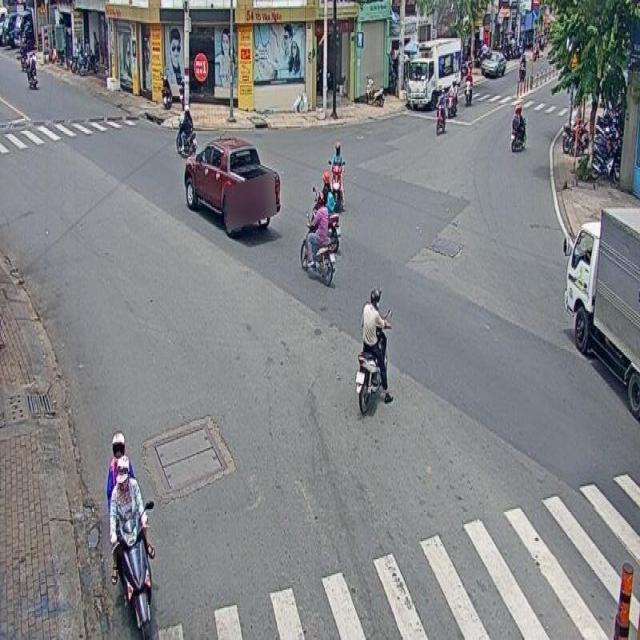car: (182, 137, 279, 239)
motorcycle: (109, 433, 154, 631), (358, 282, 388, 410), (302, 201, 341, 287), (511, 94, 527, 154)
truck: (557, 200, 640, 408)
